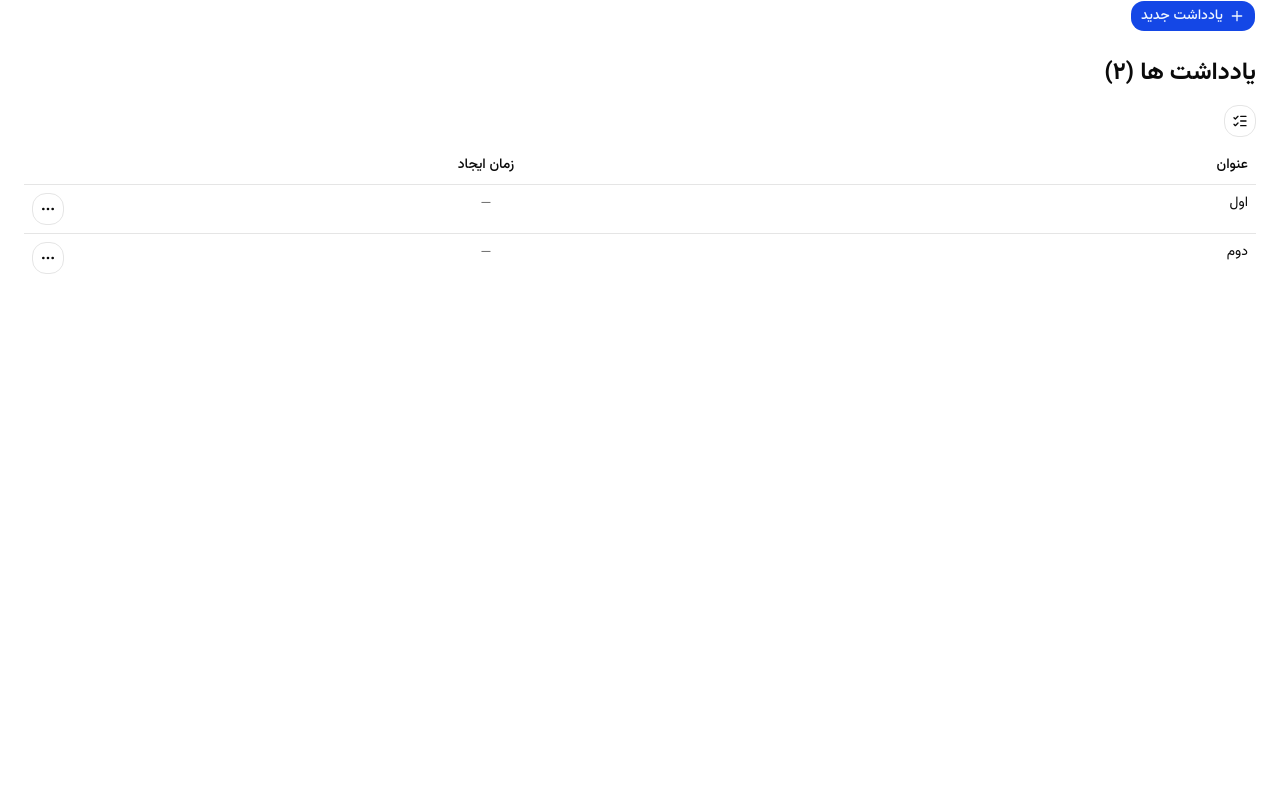
Test case: NotesPage deleting selected notes › counts a multi note selection in persian digits
Click the button named "حالت انتخاب برای یادداشت ها".
click(1240, 121)  # box [1224, 105, 1256, 137]
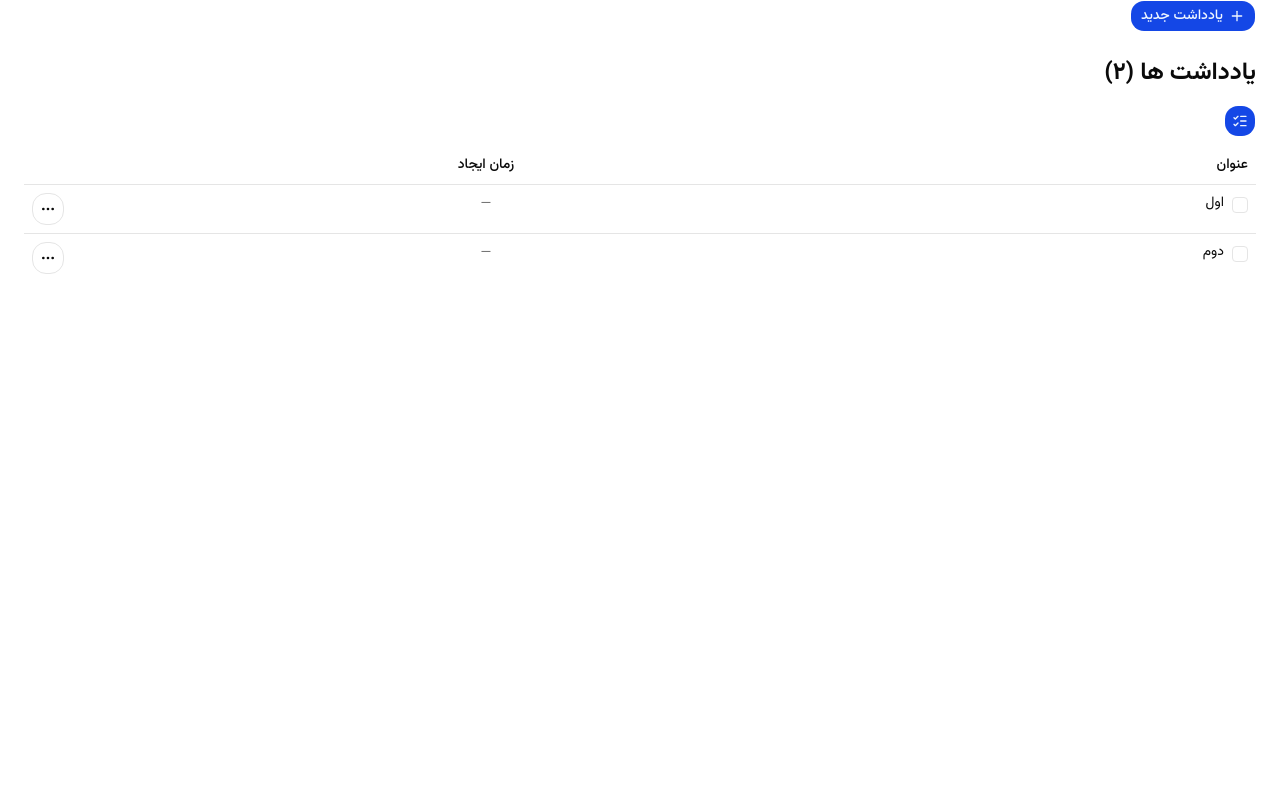
Click the button "اول".
click(1215, 203)  # box [640, 193, 1224, 213]
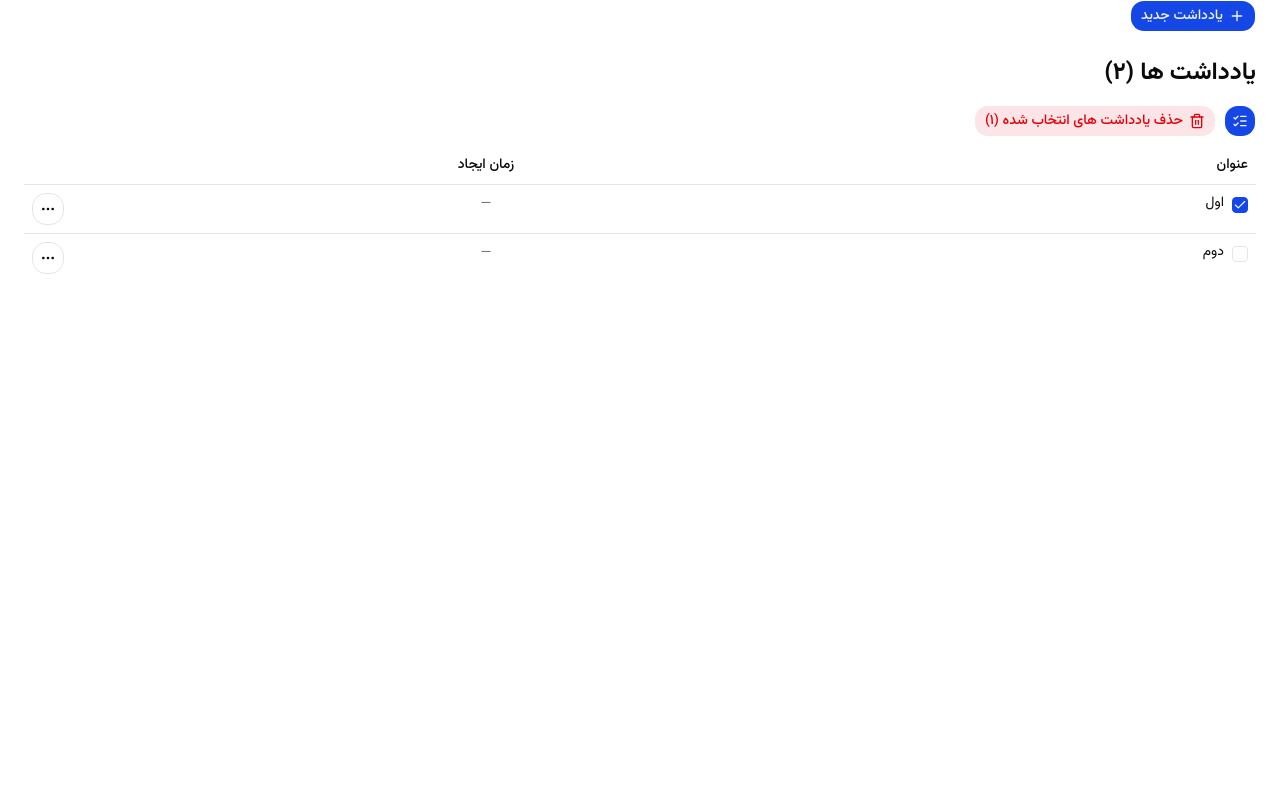
Click the button "دوم".
click(1213, 252)  # box [640, 242, 1224, 262]
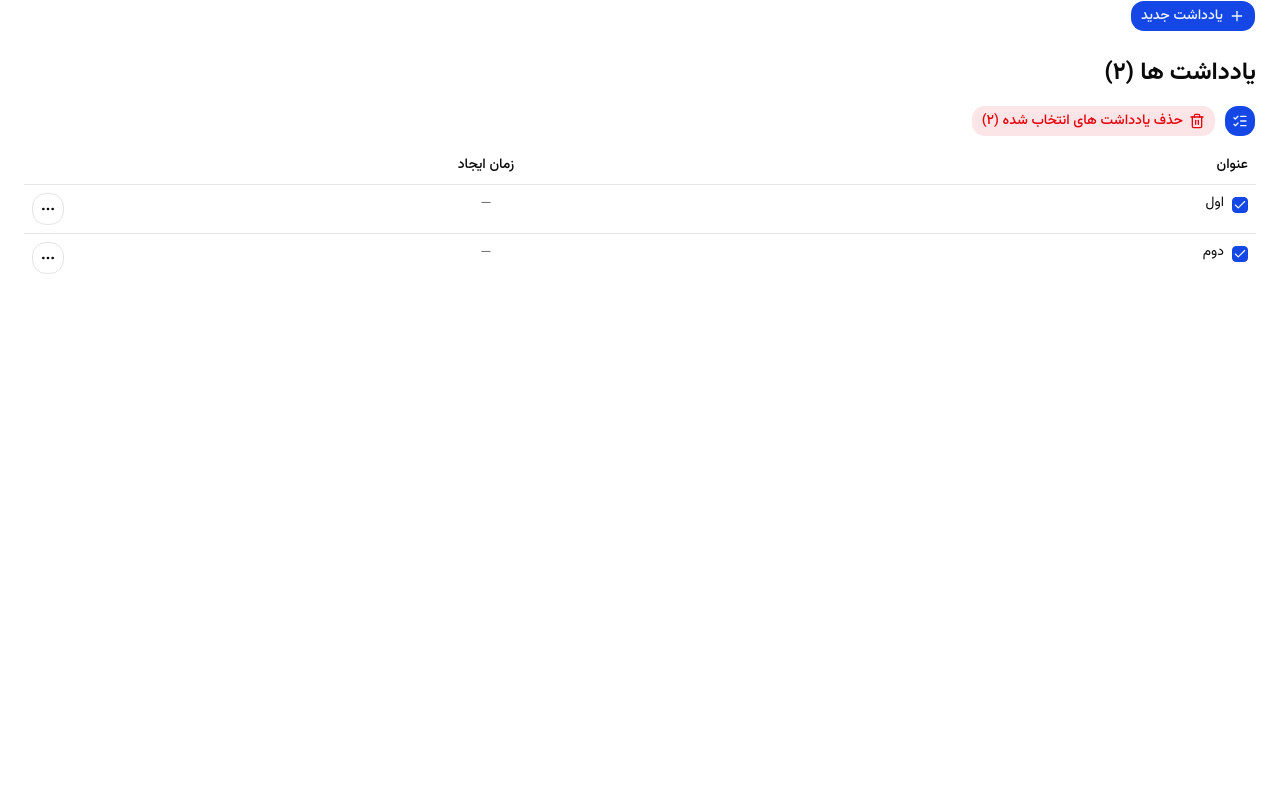
Click the button "حذف یادداشت های انتخاب شده (۲)".
click(1093, 121)  # box [971, 105, 1216, 137]
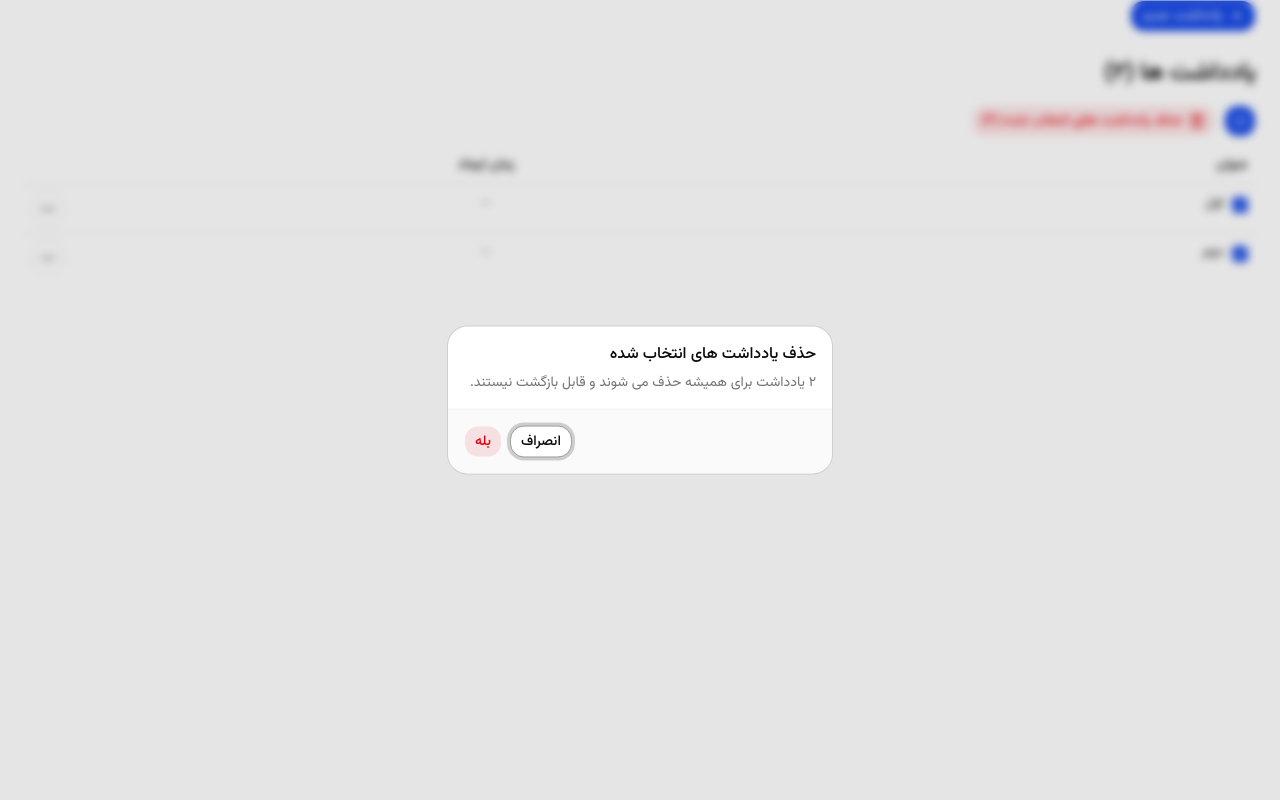
Check: the text "۲ یادداشت برای همیشه حذف می شوند و قابل بازگشت نیستند." is shown, box [470, 372, 816, 392]
